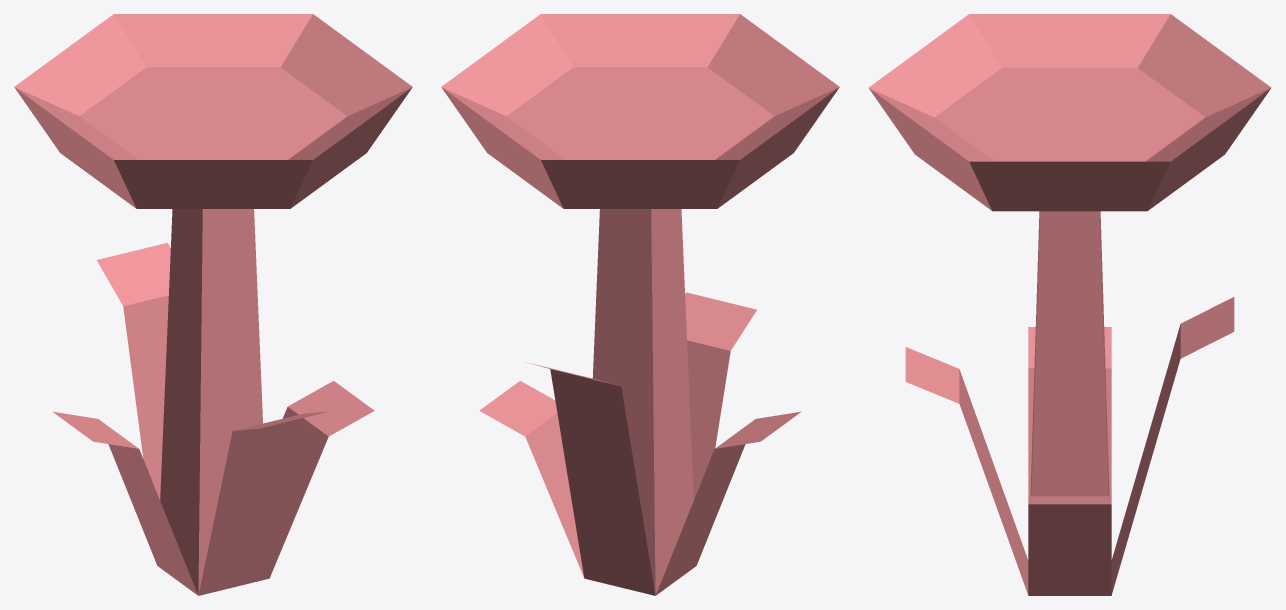
File: flower_red3.fbx
The picture shows the model from 3 angles, left to right: view 1: azimuth 30°, elevation 25°; view 2: azimuth 150°, elevation 25°; view 3: azimuth 270°, elevation 25°; orthographic projection.
Visible parts, largest first — view 1: flower_red3; view 2: flower_red3; view 3: flower_red3.
Part boxes in pixels (x1=…): flower_red3: x1=14, y1=14, x2=412, y2=595; flower_red3: x1=441, y1=14, x2=839, y2=595; flower_red3: x1=868, y1=14, x2=1271, y2=595.
Bounding box in the file's own units: 39.31 × 60.95 × 45.39.
